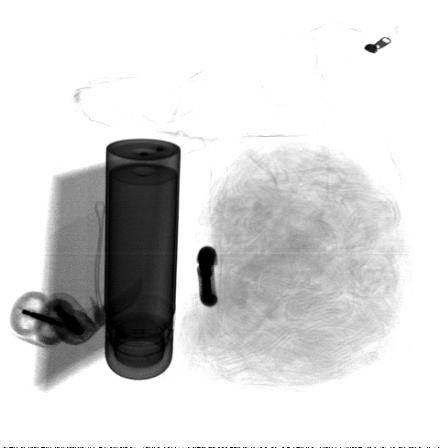Pliers: (19, 303, 85, 336)
